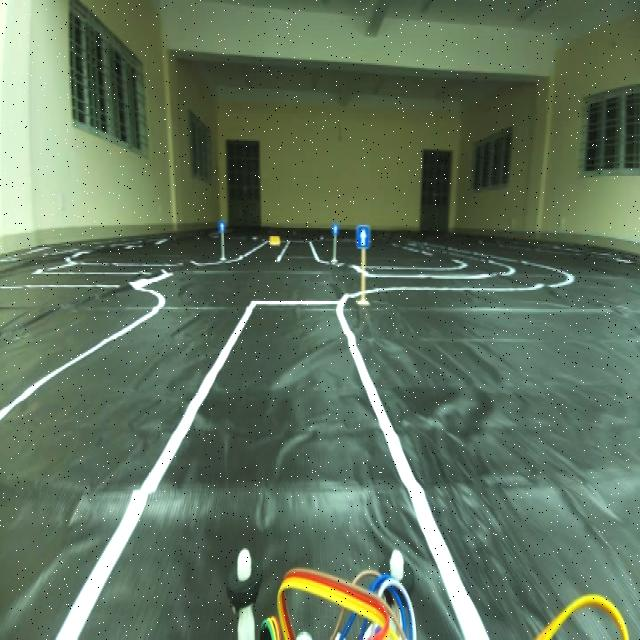onewayroad: (353, 222, 372, 253), (332, 220, 342, 238), (217, 220, 229, 233)
roadblock: (267, 229, 284, 246)
